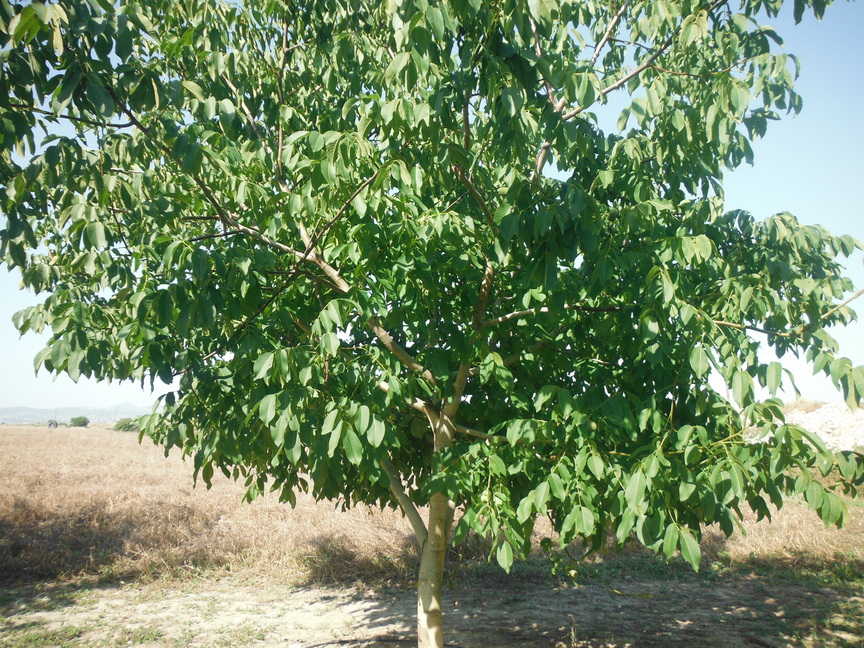walnut: (480, 486, 493, 509), (638, 233, 656, 248), (587, 417, 600, 436), (800, 328, 813, 345), (809, 318, 822, 334), (608, 204, 622, 218), (606, 212, 616, 225), (569, 567, 579, 580)
